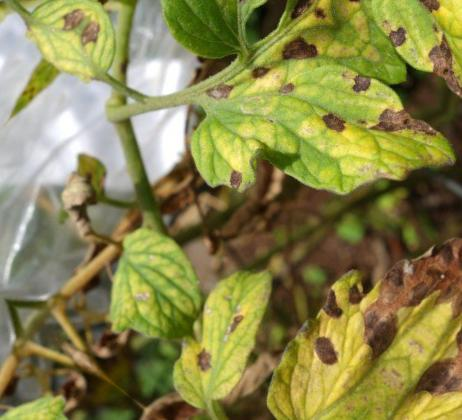Tomato leaf bacterial spot: (155, 0, 462, 293), (210, 137, 462, 420), (145, 253, 307, 420), (72, 215, 226, 368), (113, 0, 293, 81)
